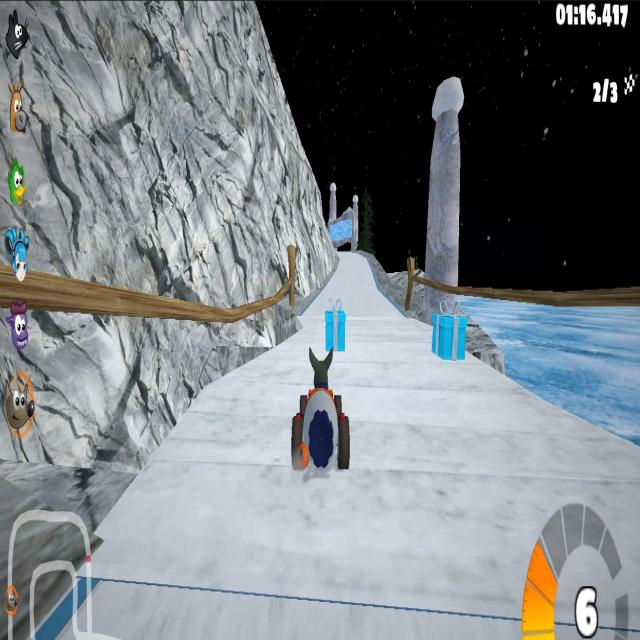track: (146, 457, 639, 640), (352, 360, 487, 436), (81, 526, 147, 635), (206, 379, 288, 464), (490, 383, 576, 452), (353, 315, 430, 370), (269, 343, 311, 385), (329, 275, 381, 304), (335, 242, 362, 277), (303, 313, 320, 344)
